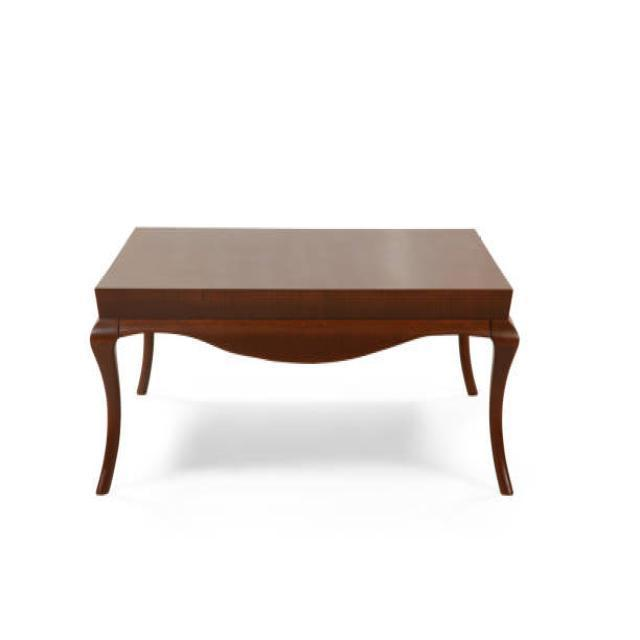table: (89, 224, 520, 499)
